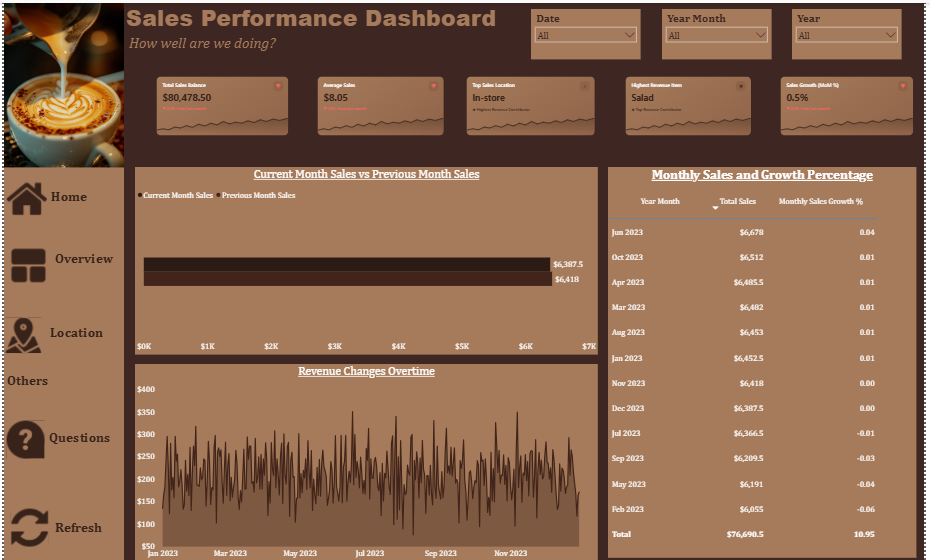

This screenshot's page, from the dashboard's own definition file:
{"tool":"powerbi","page":{"name":"Sales Growth","canvas":[2300,1400],"ordinal":2},"visuals":[{"type":"shape","box":[0,0,2300,1420.9],"z":0},{"type":"shape","box":[0,416.1,300,983.9],"z":1000},{"type":"image","box":[0,0,300,416.1],"z":2000},{"type":"textbox","title":"Sales Performance Dashboard Analysis","box":[300,0,1077.4,83.9],"z":3000},{"type":"textbox","title":"How well are we doing?","box":[307.1,83.3,476.2,45.2],"z":4000},{"type":"actionButton","box":[3,439.4,297,109.1],"z":5000},{"type":"actionButton","box":[0,786.8,300,97],"z":6000},{"type":"actionButton","box":[2.6,1044.7,293.9,103],"z":7000},{"type":"htmlContent443BE3AD55E043BF878BED274D3A6855","fields":{"content":["HTML DAX.HTML Sales Growth"]},"box":[1934.9,181.4,344.2,174.4],"z":8000},{"type":"htmlContent443BE3AD55E043BF878BED274D3A6855","fields":{"content":["HTML DAX.HTML Average Sales"]},"box":[776.7,181.4,327.9,174.4],"z":9000},{"type":"htmlContent443BE3AD55E043BF878BED274D3A6855","fields":{"content":["HTML DAX.HTML Top Sales Location"]},"box":[1151.2,183.7,332.6,172.1],"z":10000},{"type":"htmlContent443BE3AD55E043BF878BED274D3A6855","fields":{"content":["HTML DAX.HTML Highest Revenue Item"]},"box":[1546.5,181.4,325.6,174.4],"z":11000},{"type":"htmlContent443BE3AD55E043BF878BED274D3A6855","fields":{"content":["HTML DAX.HTML Total Saless"]},"box":[374.4,183.7,341.9,172.1],"z":12000},{"type":"textbox","title":"Home","box":[112.1,466.7,187.9,51.5],"z":13000},{"type":"textbox","title":"Location","box":[110.5,807.9,160.6,51.5],"z":14000},{"type":"textbox","title":"Others","box":[2.6,926.3,151.5,54.5],"z":15000},{"type":"textbox","title":"Questions","box":[107.9,1071.1,163.6,54.5],"z":16000},{"type":"textbox","title":"Refresh","box":[123.7,1294.7,137.2,48.8],"z":17000},{"type":"clusteredBarChart","title":"Current Month Sales vs Previous Month Sales","fields":{"Y":["DAX MEASURE.Current Month Sales","DAX MEASURE.Previous Month Sales"]},"box":[327.8,414.8,1157.4,468.5],"z":18000},{"type":"areaChart","title":"Revenue Changes Overtime","fields":{"Category":["Date Table.Date"],"Y":["DAX MEASURE.Total Sales"]},"box":[327.8,907.4,1157.4,492.6],"z":19000},{"type":"pivotTable","title":"Monthly Sales and Growth Percentage","fields":{"Rows":["Date Table.Year Month"],"Values":["DAX MEASURE.Total Sales","DAX MEASURE.Monthly Sales Growth %"]},"box":[1509.7,416.1,771,977.4],"z":20000},{"type":"actionButton","box":[13.2,1265.8,271,103.2],"z":21000},{"type":"actionButton","box":[13.2,613.2,286.8,97.4],"z":21001},{"type":"textbox","title":"Overview","box":[123.7,623.7,160.6,51.5],"z":21002},{"type":"slicer","fields":{"Values":["Date Table.Date"]},"box":[1316.7,20,274.2,125.8],"z":21003},{"type":"slicer","fields":{"Values":["Date Table.Year Month"]},"box":[1645.2,19,274.2,125.8],"z":21004},{"type":"slicer","fields":{"Values":["Date Table.Year"]},"box":[1969,19,274.2,125.8],"z":21005}]}

Visuals, with their boxes in screenshot pixels (x1, y1, x2, y2), scaled from the page's 2300x1400 canvas onto the 930x560 screenshot:
shape: [0,0,929,559]
shape: [0,166,121,559]
image: [0,0,121,166]
"Sales Performance Dashboard Analysis" textbox: [121,0,557,34]
"How well are we doing?" textbox: [124,33,317,51]
actionButton: [1,176,121,219]
actionButton: [0,315,121,354]
actionButton: [1,418,120,459]
htmlContent443BE3AD55E043BF878BED274D3A6855 - HTML DAX.HTML Sales Growth: [782,73,922,142]
htmlContent443BE3AD55E043BF878BED274D3A6855 - HTML DAX.HTML Average Sales: [314,73,447,142]
htmlContent443BE3AD55E043BF878BED274D3A6855 - HTML DAX.HTML Top Sales Location: [465,73,600,142]
htmlContent443BE3AD55E043BF878BED274D3A6855 - HTML DAX.HTML Highest Revenue Item: [625,73,757,142]
htmlContent443BE3AD55E043BF878BED274D3A6855 - HTML DAX.HTML Total Saless: [151,73,290,142]
"Home" textbox: [45,187,121,207]
"Location" textbox: [45,323,110,344]
"Others" textbox: [1,371,62,392]
"Questions" textbox: [44,428,110,450]
"Refresh" textbox: [50,518,105,537]
"Current Month Sales vs Previous Month Sales" clusteredBarChart: [133,166,601,353]
"Revenue Changes Overtime" areaChart: [133,363,601,559]
"Monthly Sales and Growth Percentage" pivotTable: [610,166,922,557]
actionButton: [5,506,115,548]
actionButton: [5,245,121,284]
"Overview" textbox: [50,249,115,270]
slicer - Date Table.Date: [532,8,643,58]
slicer - Date Table.Year Month: [665,8,776,58]
slicer - Date Table.Year: [796,8,907,58]
